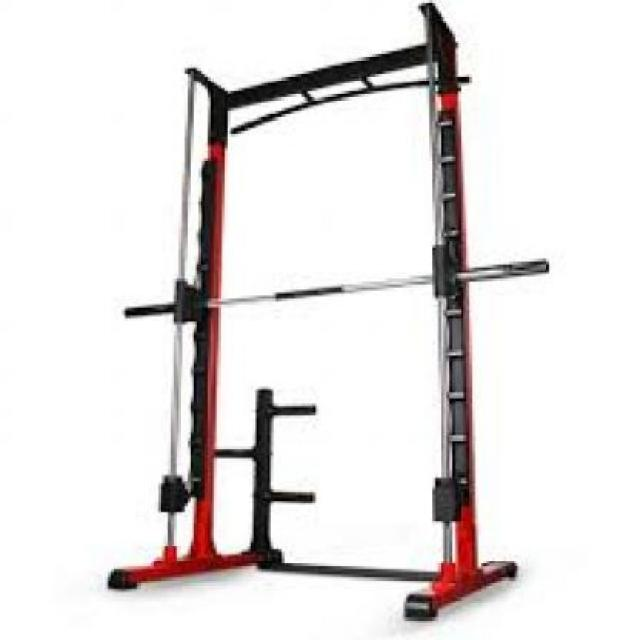smith machine: (120, 4, 549, 622)
